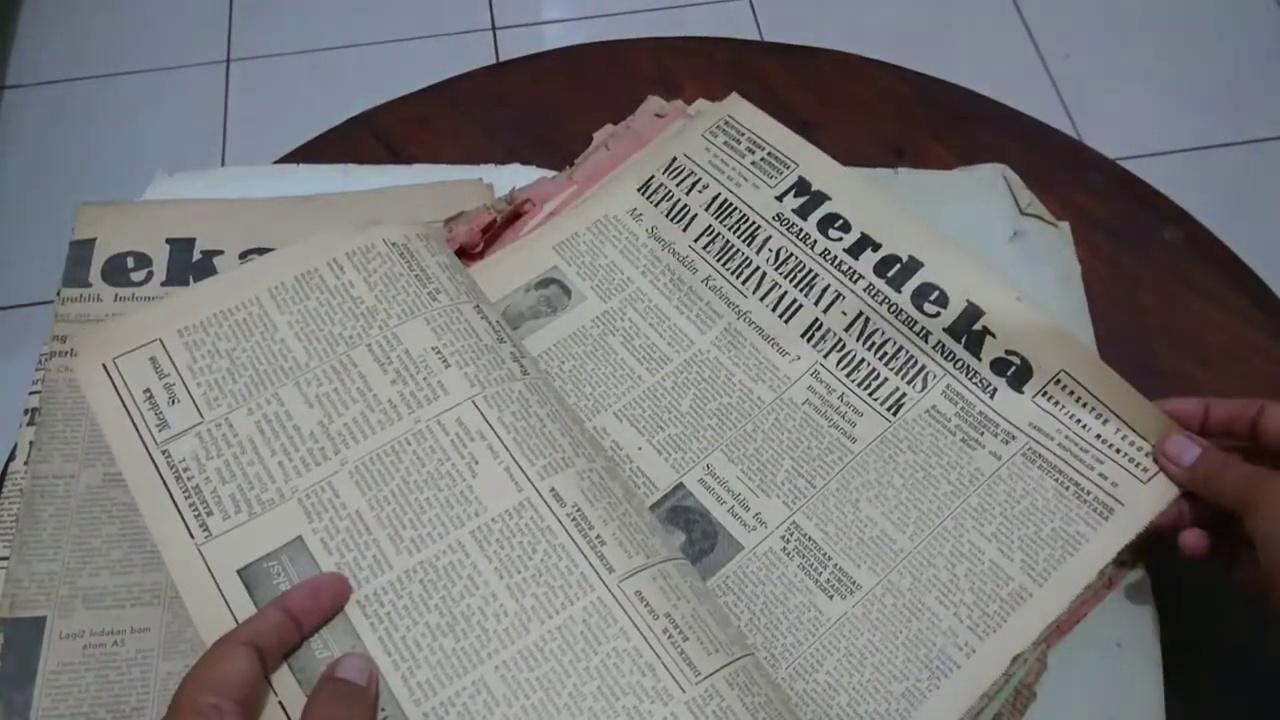Kertas: (76, 73, 1188, 720)
